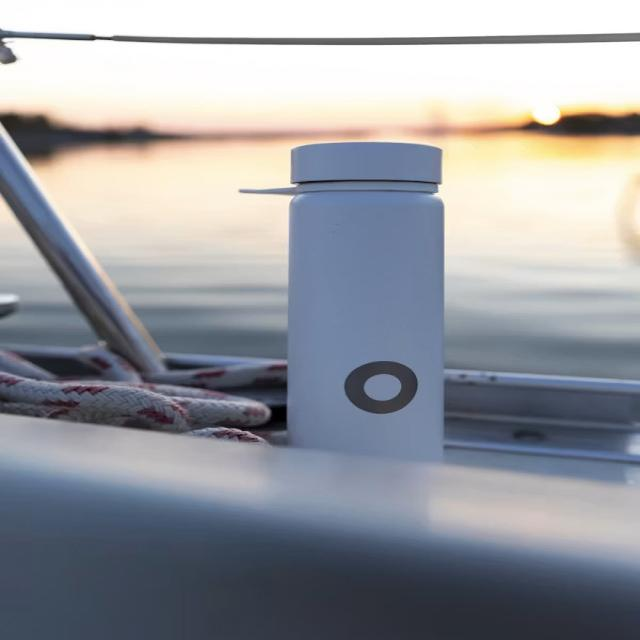Bottle: (288, 143, 443, 461)
